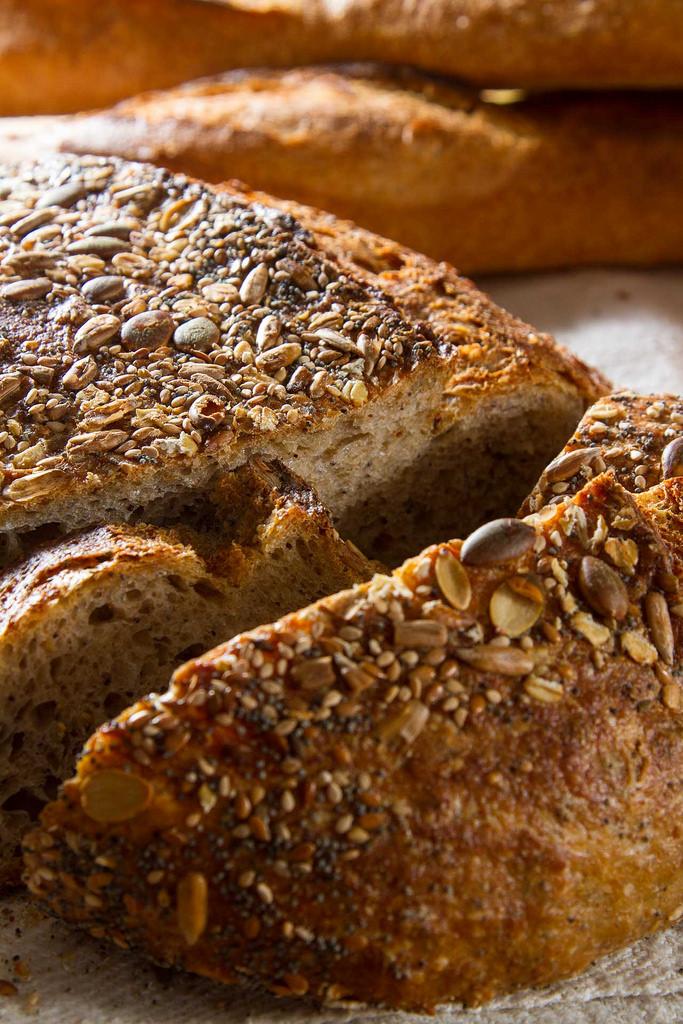slice of bread: (18, 559, 642, 944)
